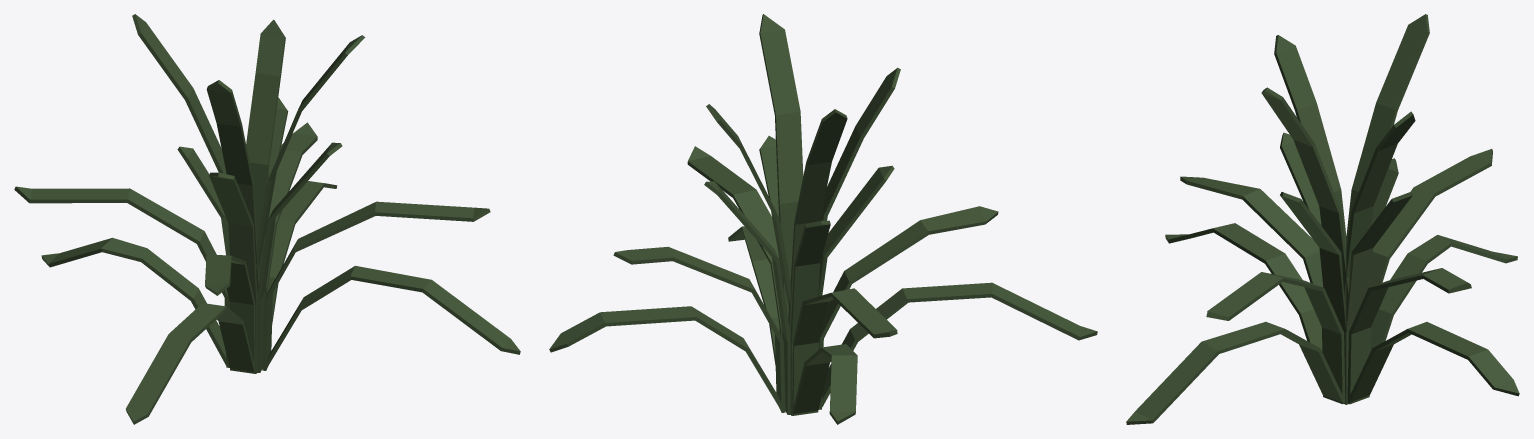
The model's file is plant_3.glb.
3 renders of one model, left to right at view 1: azimuth 30°, elevation 25°; view 2: azimuth 150°, elevation 25°; view 3: azimuth 270°, elevation 25°, orthographic.
Visible parts, largest first — view 1: plant_3; view 2: plant_3; view 3: plant_3.
Boxes of the visible parts, x1,y1,x2,y2 form: plant_3: (14, 14, 520, 424); plant_3: (549, 14, 1097, 424); plant_3: (1126, 14, 1519, 424).
Size of the model in its own units: 0.5448 by 0.4719 by 0.4862.
1 material, 1 textured.
